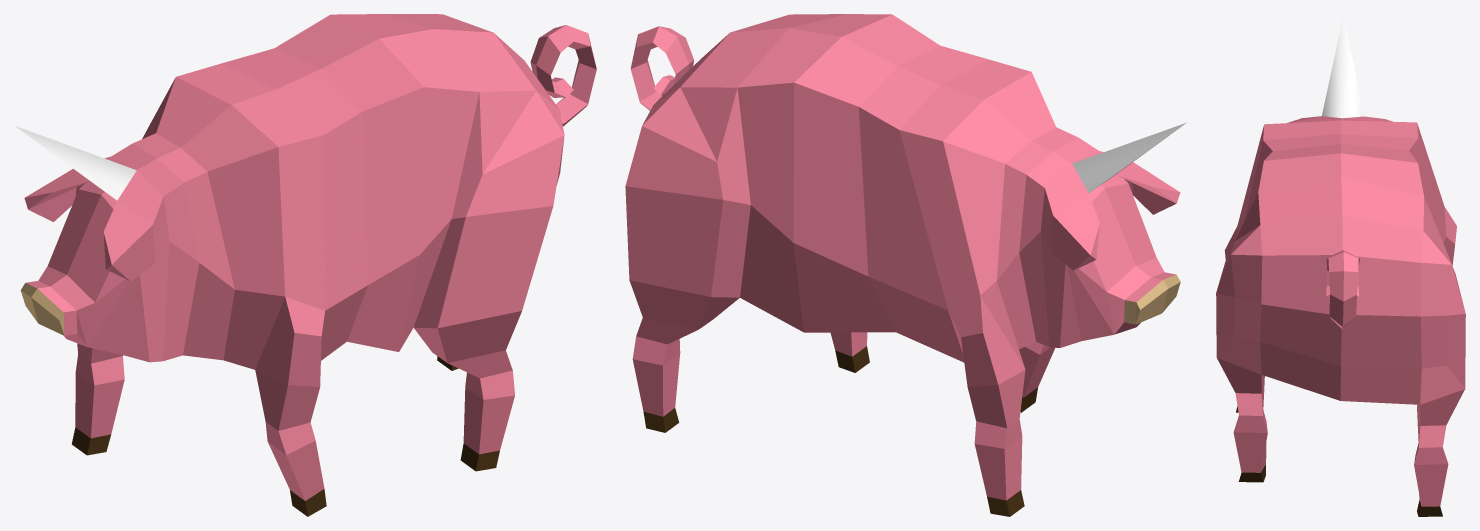
The model's file is pigWalking16.obj.
The picture shows the model from 3 angles, left to right: view 1: azimuth 30°, elevation 25°; view 2: azimuth 150°, elevation 25°; view 3: azimuth 270°, elevation 25°; orthographic projection. The views are drawn at different scales.
Visible parts, largest first — view 1: Pig_Cylinder; view 2: Pig_Cylinder; view 3: Pig_Cylinder.
Part boxes in pixels (x1,y1,x2,y2): Pig_Cylinder: (15,14,596,516); Pig_Cylinder: (625,14,1186,516); Pig_Cylinder: (1216,15,1465,516).
Bounding box in the file's own units: 23.38 × 15.32 × 11.11.
